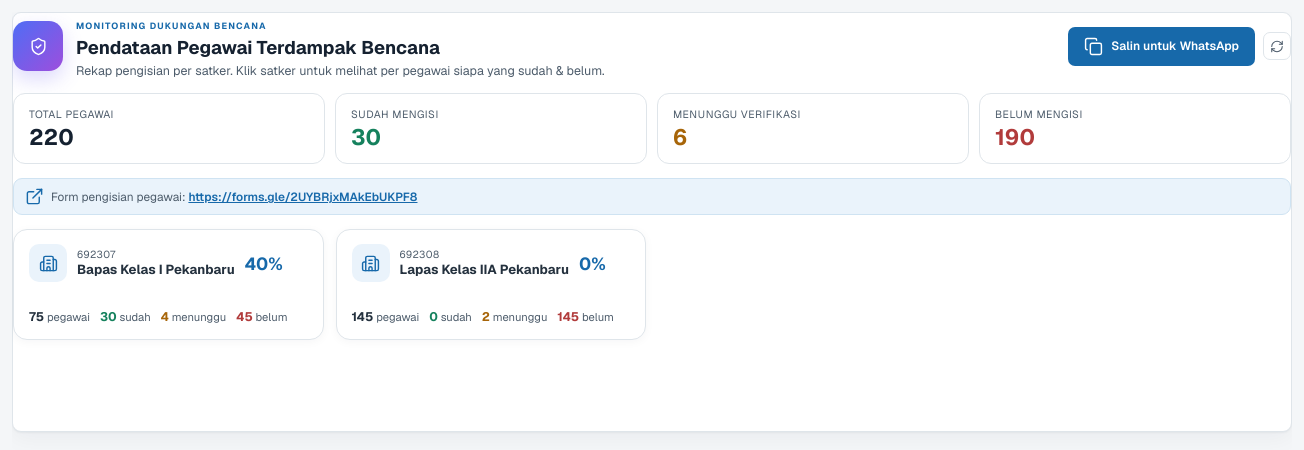
Test: DampakMonitoringPage › membuka detail satker dan menampilkan status pegawai
Click the text "Bapas Kelas I Pekanbaru" at (156, 270), box left=77, top=261, right=235, bottom=278
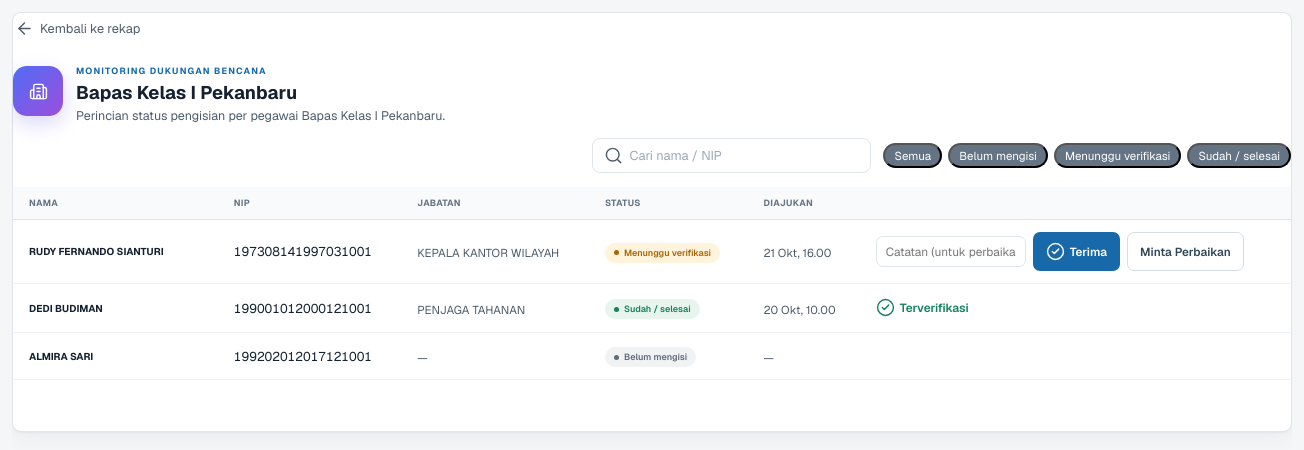
Result: the button "Kembali ke rekap" is shown at left=13, top=13, right=142, bottom=44
Result: the text "RUDY FERNANDO SIANTURI" is shown at left=29, top=245, right=164, bottom=258
Result: the text "DEDI BUDIMAN" is shown at left=29, top=302, right=103, bottom=314
